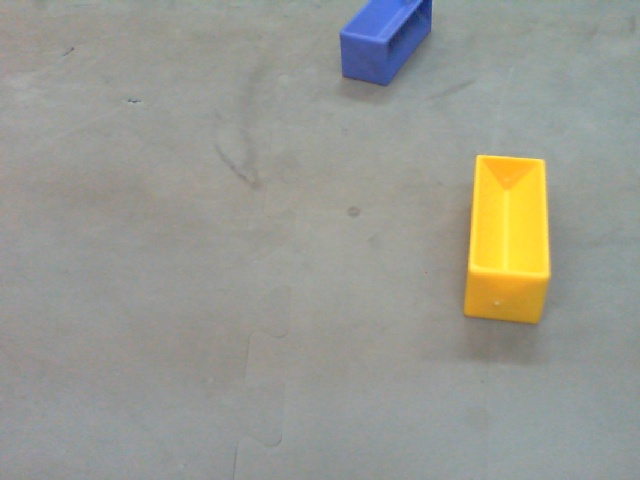BlueSample: (338, 1, 433, 88)
YellowSample: (463, 151, 550, 332)
